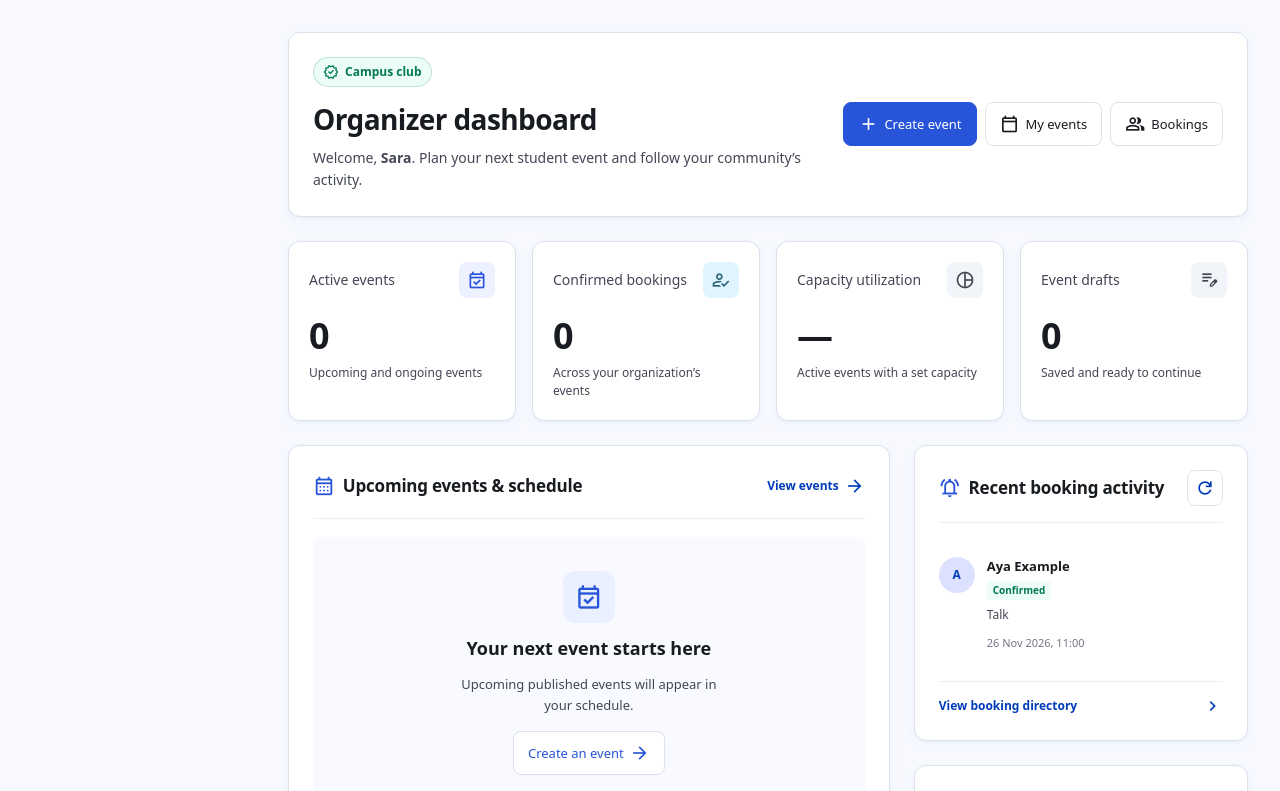
Test case: organizer dashboard › clears a denied refresh and removes participant information
Expected: the text "Aya Example" is shown, [987,557,1070,575]
Click the button named "Refresh dashboard" at (1205, 488), box [1187,470,1223,506]
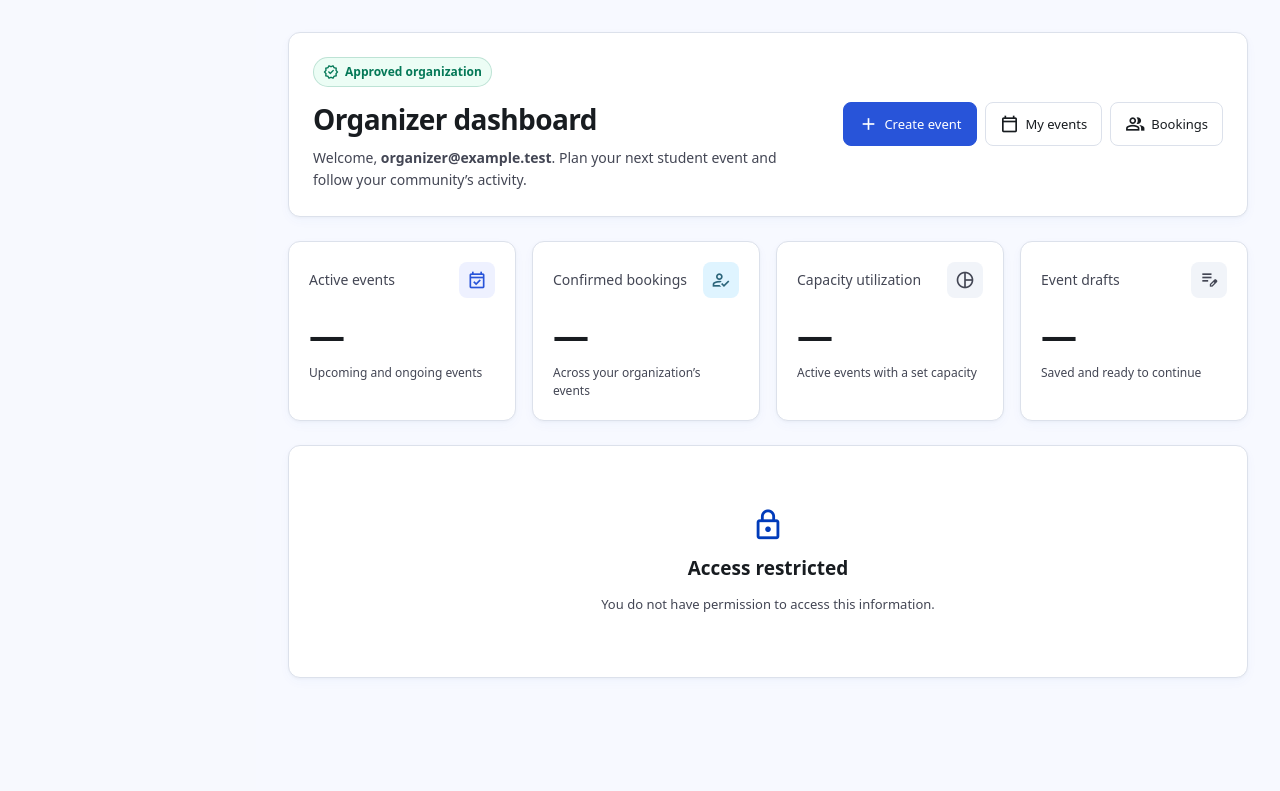
Now the message shows "permission", box [601,595,935,613]
Now the text "Aya Example" is gone
